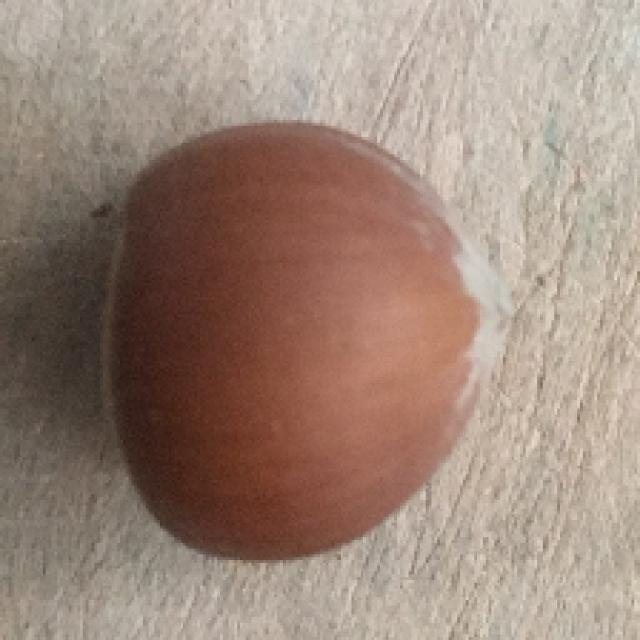qualityHazelnut: (90, 106, 523, 569)
